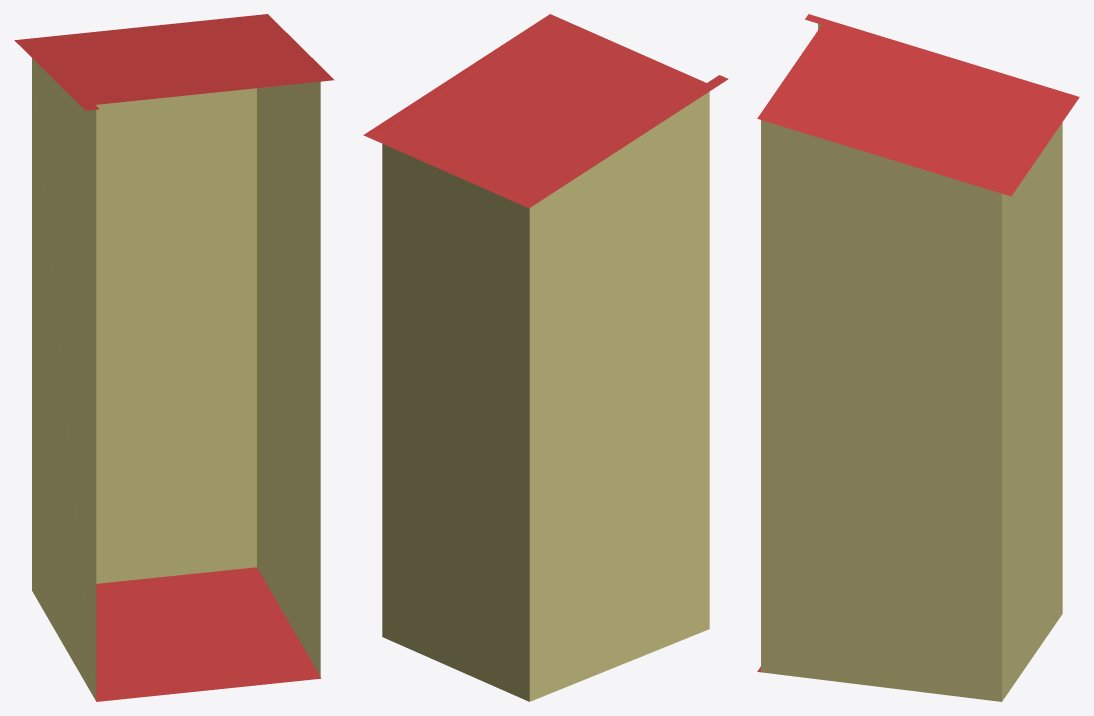
3 renders of one model, left to right at view 1: azimuth 30°, elevation 25°; view 2: azimuth 150°, elevation 25°; view 3: azimuth 270°, elevation 25°, orthographic. The views are drawn at different scales.
Bounding box in the file's own units: 5.72 × 5.87 × 11.28.
